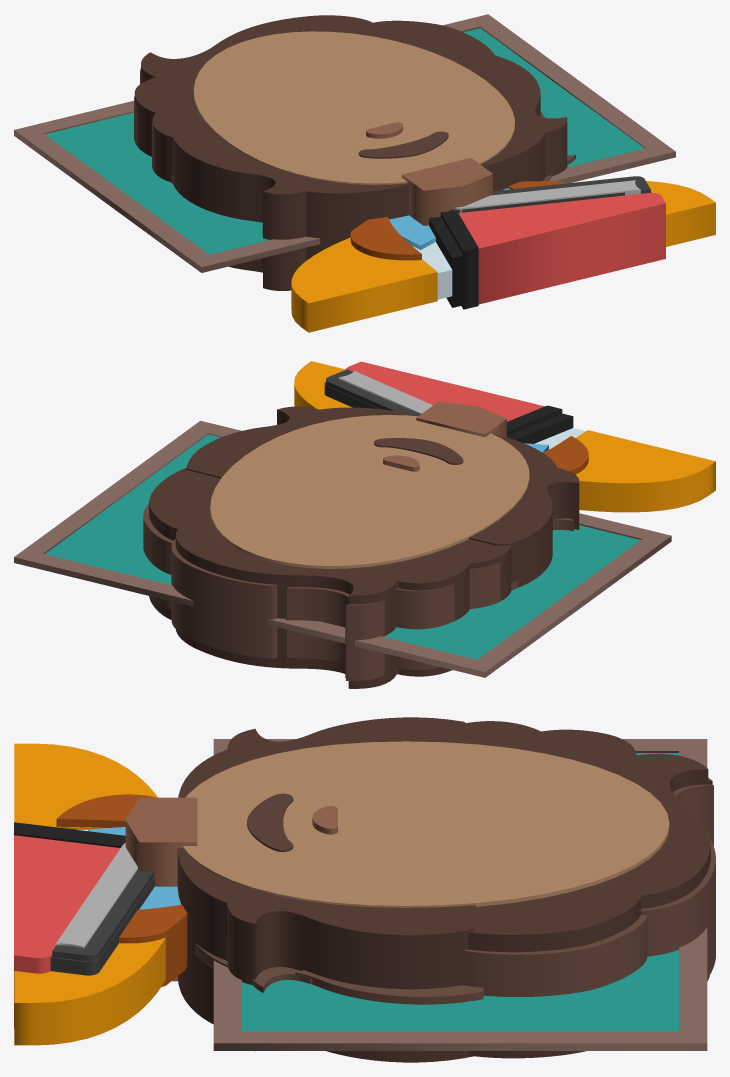
Rendered from emoji_u1f9d1_1f3fd_200d_1f3eb.glb.
3 renders of one model, top to bottom at view 1: azimuth 30°, elevation 25°; view 2: azimuth 150°, elevation 25°; view 3: azimuth 270°, elevation 25°, orthographic. The views are drawn at different scales.
Visible parts, largest first — view 1: emoji_u1f9d1_1f3fd_200d_1f3eb; view 2: emoji_u1f9d1_1f3fd_200d_1f3eb; view 3: emoji_u1f9d1_1f3fd_200d_1f3eb.
Part boxes in pixels (x1,y1,x2,y2): emoji_u1f9d1_1f3fd_200d_1f3eb: (14,14,715,332); emoji_u1f9d1_1f3fd_200d_1f3eb: (14,361,715,688); emoji_u1f9d1_1f3fd_200d_1f3eb: (14,717,715,1062).
Bounding box in the file's own units: 0.0338 × 0.0074 × 0.033.
